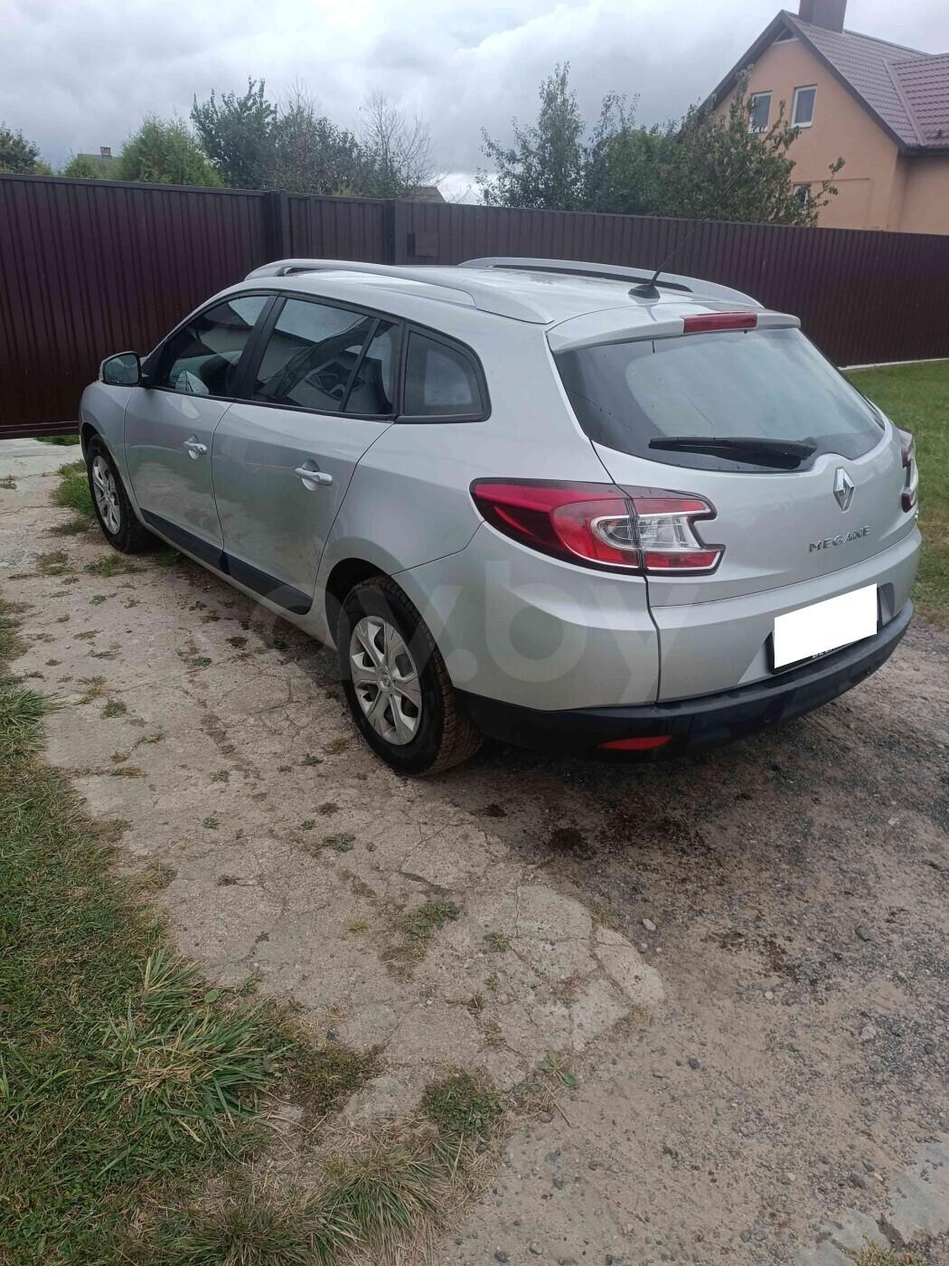Megane_2008-2014: (72, 244, 931, 790)
